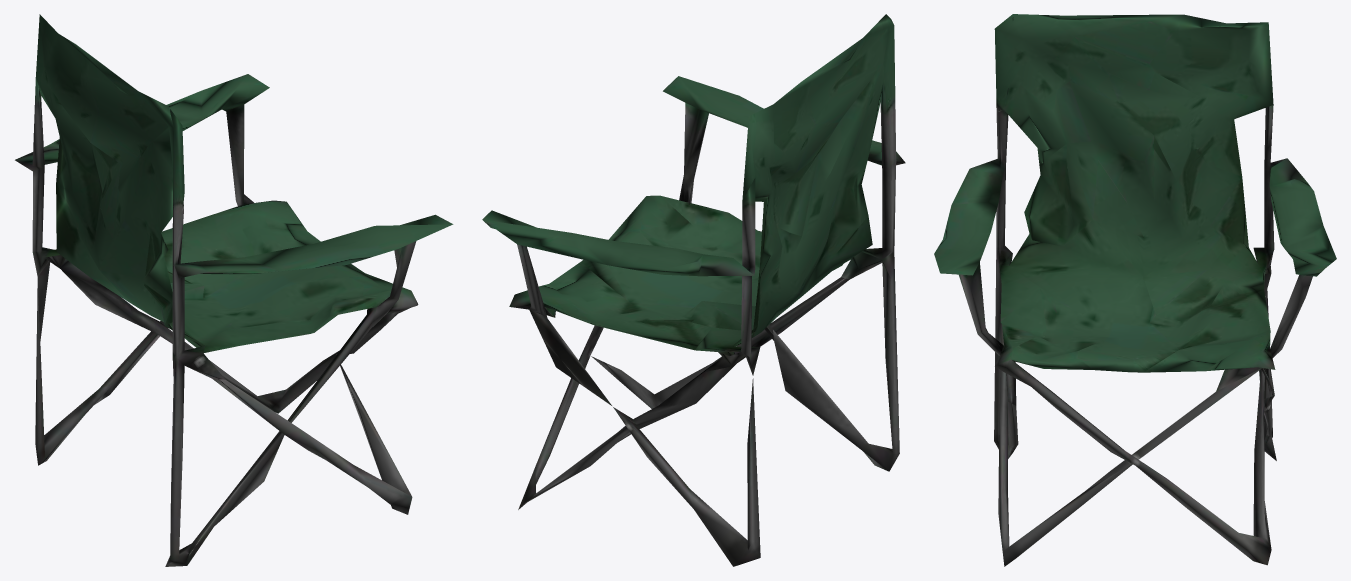
The model's file is sedia.glb.
The picture shows the model from 3 angles, left to right: view 1: azimuth 30°, elevation 25°; view 2: azimuth 150°, elevation 25°; view 3: azimuth 270°, elevation 25°; orthographic projection. The views are drawn at different scales.
Visible parts, largest first — view 1: tripo_node_790e6311-1e38-4293-a9d0-03068121199e; view 2: tripo_node_790e6311-1e38-4293-a9d0-03068121199e; view 3: tripo_node_790e6311-1e38-4293-a9d0-03068121199e.
Boxes of the visible parts, x1=… form: tripo_node_790e6311-1e38-4293-a9d0-03068121199e: x1=15, y1=14, x2=453, y2=566; tripo_node_790e6311-1e38-4293-a9d0-03068121199e: x1=482, y1=14, x2=905, y2=566; tripo_node_790e6311-1e38-4293-a9d0-03068121199e: x1=934, y1=14, x2=1336, y2=566.
Bounding box in the file's own units: 0.5881 × 1 × 0.8238.
Materials: 1 (1 with a texture image).
